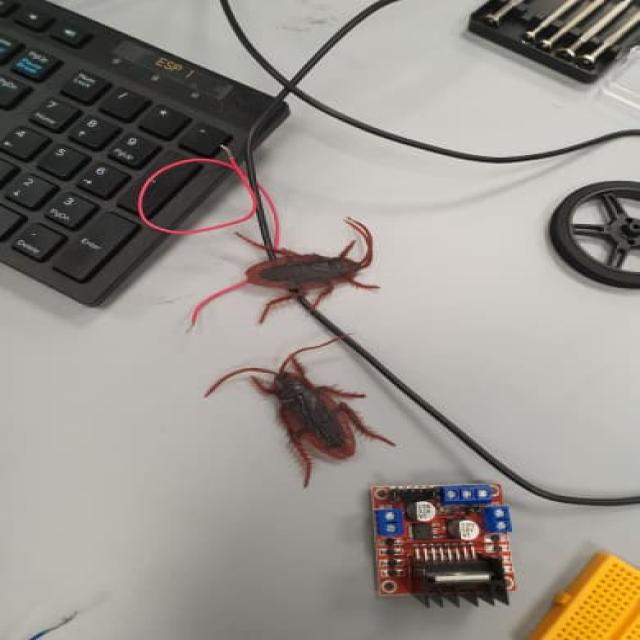Cockroach: (207, 349, 387, 478), (231, 222, 381, 320)
